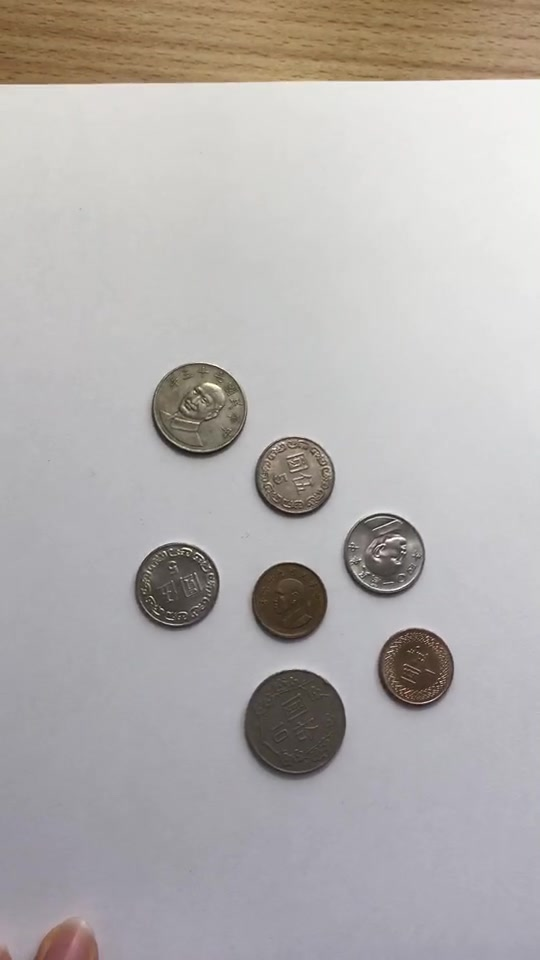1 dallar: (369, 617, 468, 709), (241, 560, 334, 647)
10 dallar: (232, 666, 353, 782), (146, 357, 251, 457)
5 dallar: (129, 537, 220, 637), (252, 428, 343, 528), (338, 504, 429, 604)
